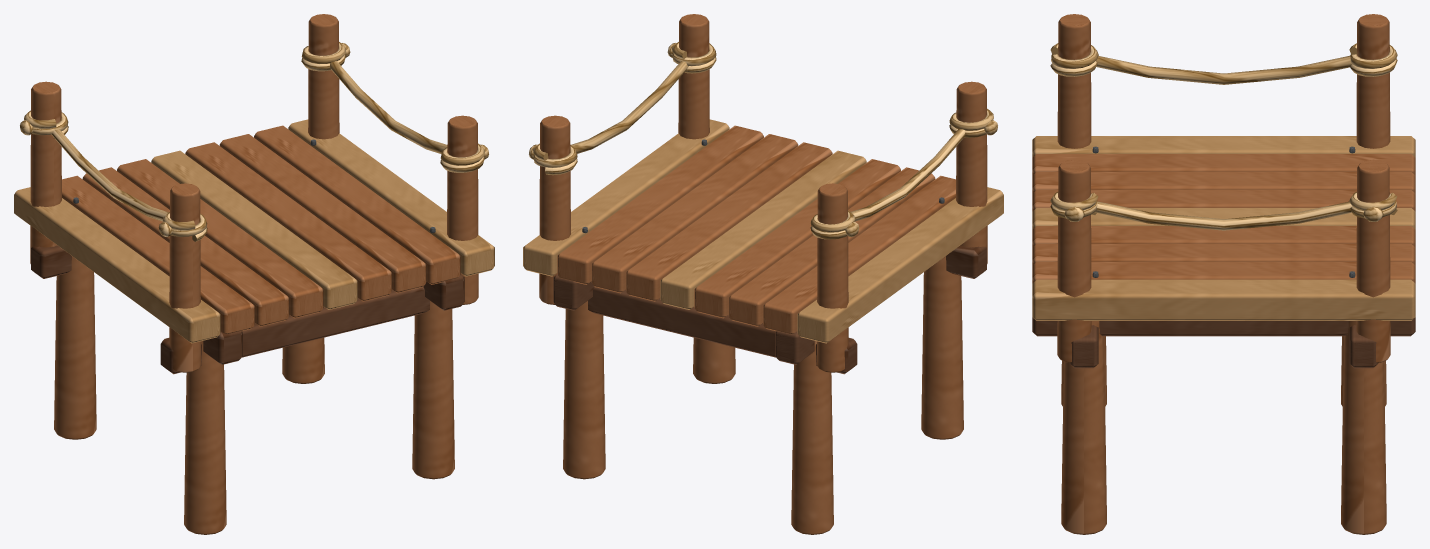
File: SM_Dock_Straight.glb
3 renders of one model, left to right at view 1: azimuth 30°, elevation 25°; view 2: azimuth 150°, elevation 25°; view 3: azimuth 270°, elevation 25°, orthographic. The views are drawn at different scales.
Visible parts, largest first — view 1: SM_Dock_Straight; view 2: SM_Dock_Straight; view 3: SM_Dock_Straight.
Boxes of the visible parts, left/top/right/bottom form: SM_Dock_Straight: left=14, top=14, right=494, bottom=534; SM_Dock_Straight: left=523, top=14, right=1003, bottom=534; SM_Dock_Straight: left=1032, top=14, right=1415, bottom=534.
Bounding box in the file's own units: 2.12 × 2.15 × 2.
1 material, 1 textured.
